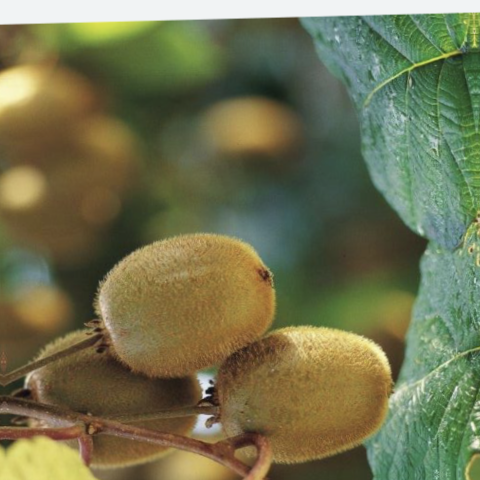kiwi: (194, 301, 398, 478), (14, 313, 217, 469), (88, 220, 279, 384)
